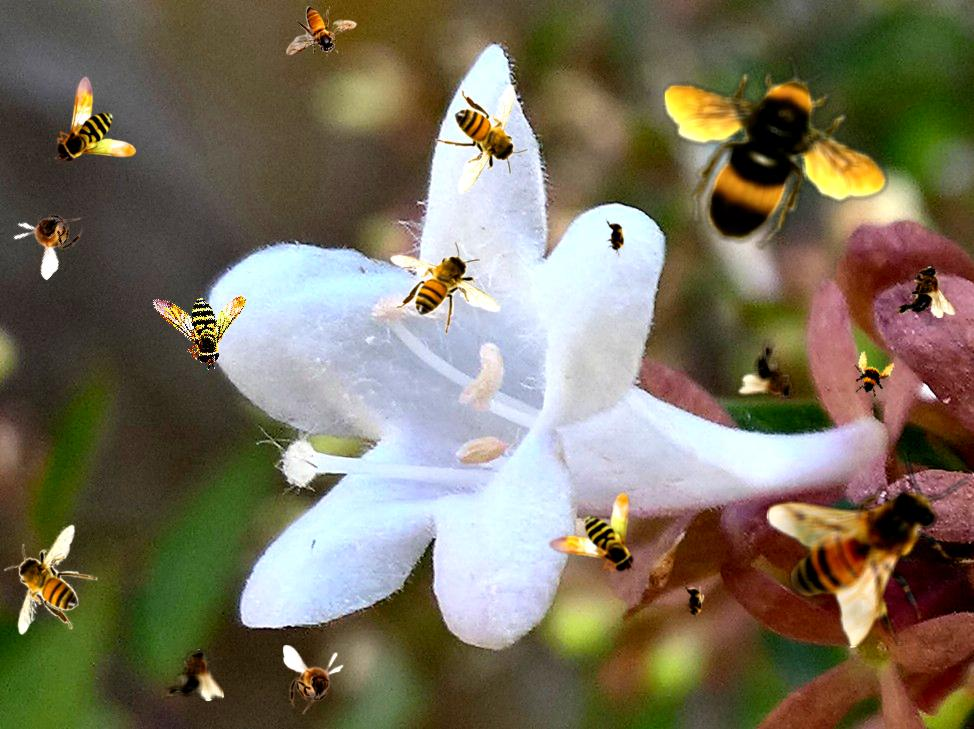Bee: (661, 50, 891, 253), (766, 449, 970, 648), (137, 257, 255, 373), (4, 524, 98, 635), (435, 84, 529, 195), (390, 241, 501, 335), (3, 188, 96, 282), (54, 76, 136, 164), (548, 493, 636, 575), (734, 337, 811, 417), (283, 645, 344, 715), (286, 6, 357, 56), (893, 265, 955, 318), (162, 648, 224, 701), (842, 348, 898, 404), (605, 217, 627, 257), (683, 582, 705, 622)
